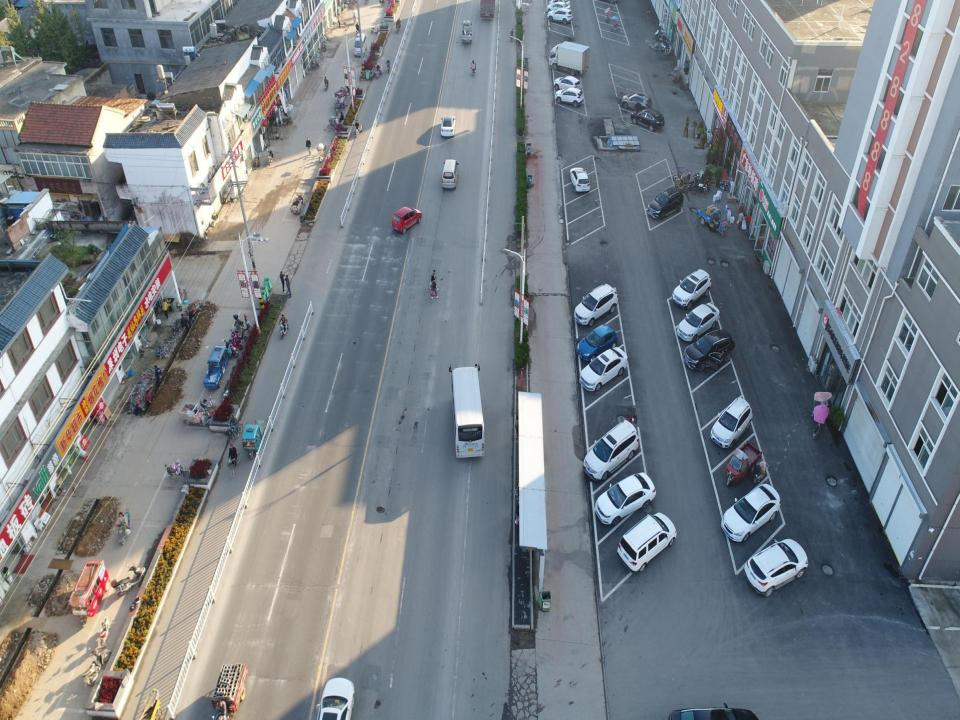bus: (447, 360, 485, 458)
car: (614, 510, 678, 575), (742, 536, 809, 597), (580, 419, 639, 481), (720, 484, 780, 541), (592, 472, 656, 523), (682, 328, 736, 374), (710, 396, 753, 450), (580, 345, 628, 391), (573, 283, 618, 325), (670, 267, 712, 311), (676, 303, 719, 345), (576, 323, 617, 362), (647, 184, 684, 220), (390, 200, 424, 237), (631, 102, 666, 131), (554, 87, 585, 107), (622, 92, 652, 112), (569, 166, 591, 192), (553, 75, 582, 92), (546, 8, 573, 25), (440, 113, 457, 139), (546, 3, 571, 15), (549, 0, 571, 8)
truck: (460, 19, 474, 43)
van: (440, 159, 459, 190), (354, 30, 368, 57)
